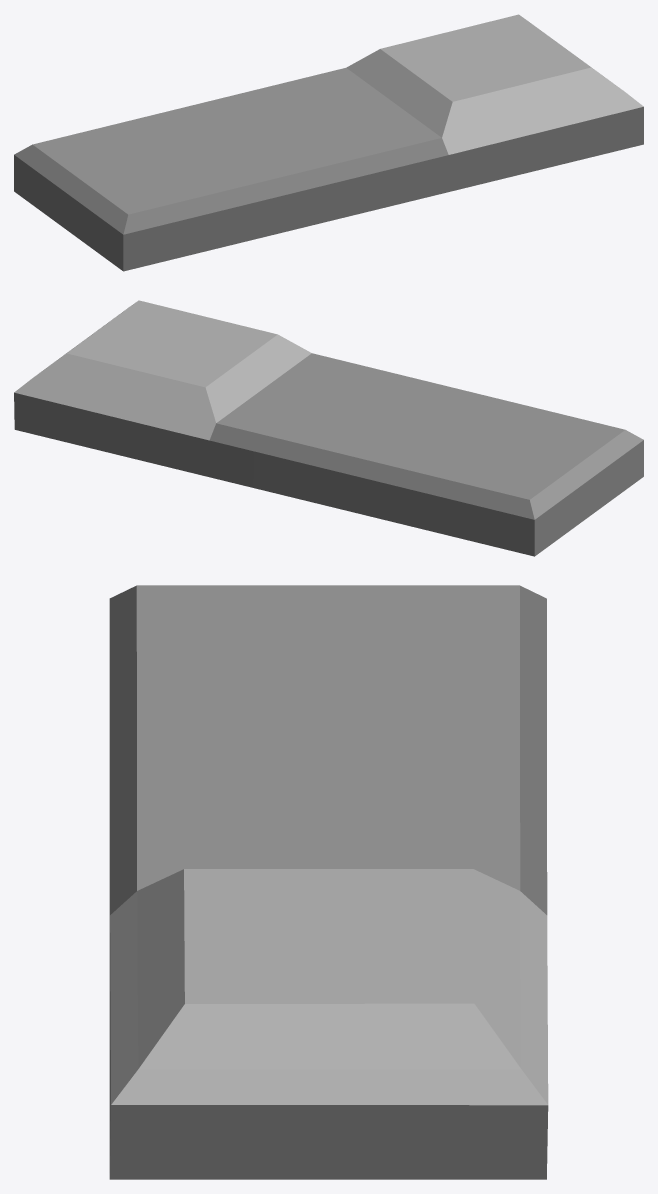
The model's file is Bedroom Bag.fbx.
3 renders of one model, top to bottom at view 1: azimuth 30°, elevation 25°; view 2: azimuth 150°, elevation 25°; view 3: azimuth 270°, elevation 25°, orthographic. The views are drawn at different scales.
Parts seen in each view (by area): view 1: Bedroom_Bag; view 2: Bedroom_Bag; view 3: Bedroom_Bag.
Part boxes in pixels (x1=…): Bedroom_Bag: x1=14, y1=14, x2=643, y2=271; Bedroom_Bag: x1=14, y1=300, x2=643, y2=556; Bedroom_Bag: x1=109, y1=585, x2=548, y2=1179.
Size of the model in its own units: 0.6604 by 0.0866 by 0.241.
